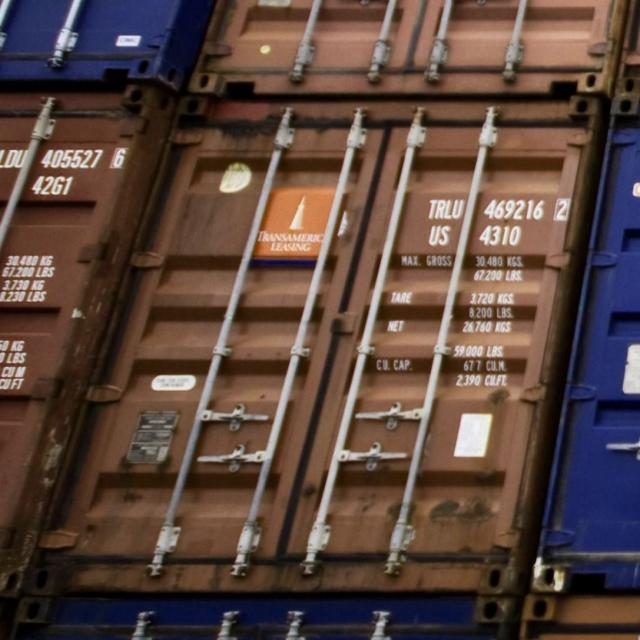ISO: (429, 223, 522, 247)
container_number: (426, 194, 574, 218)
